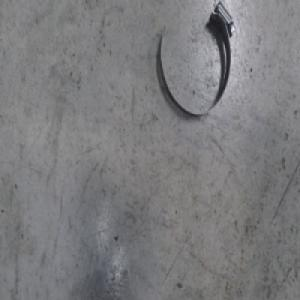AdjustableClamp: (159, 1, 238, 117)
